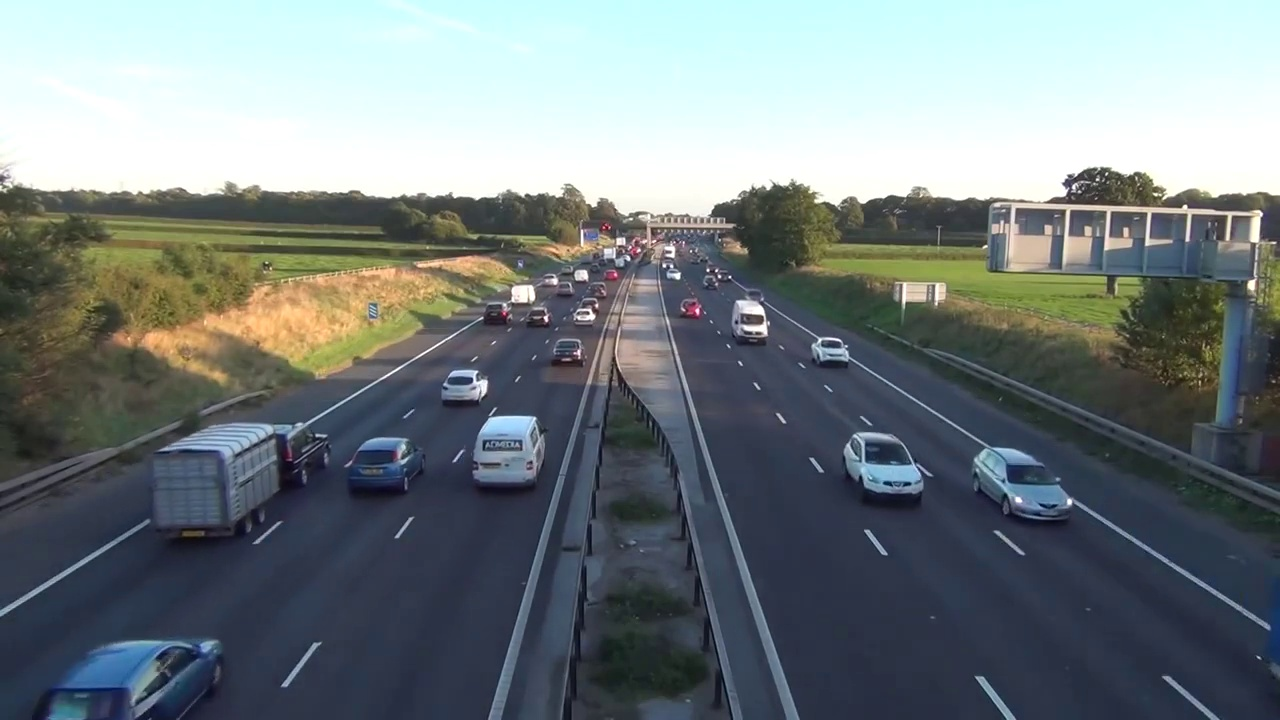bus: (33, 634, 226, 720), (970, 446, 1074, 524), (841, 431, 926, 508), (348, 436, 427, 497), (266, 421, 333, 488), (442, 369, 490, 405), (810, 336, 851, 369), (551, 337, 587, 368), (484, 301, 516, 325), (526, 306, 554, 326), (679, 298, 702, 320), (573, 308, 596, 326), (743, 288, 764, 305), (589, 281, 608, 298), (579, 298, 599, 313), (556, 282, 576, 297), (542, 272, 559, 286), (702, 275, 719, 289), (717, 269, 733, 283), (665, 269, 682, 281), (574, 269, 589, 282), (603, 268, 618, 280), (705, 263, 720, 275), (662, 259, 675, 270)
car: (472, 415, 550, 490), (731, 299, 771, 345), (511, 284, 537, 304)
